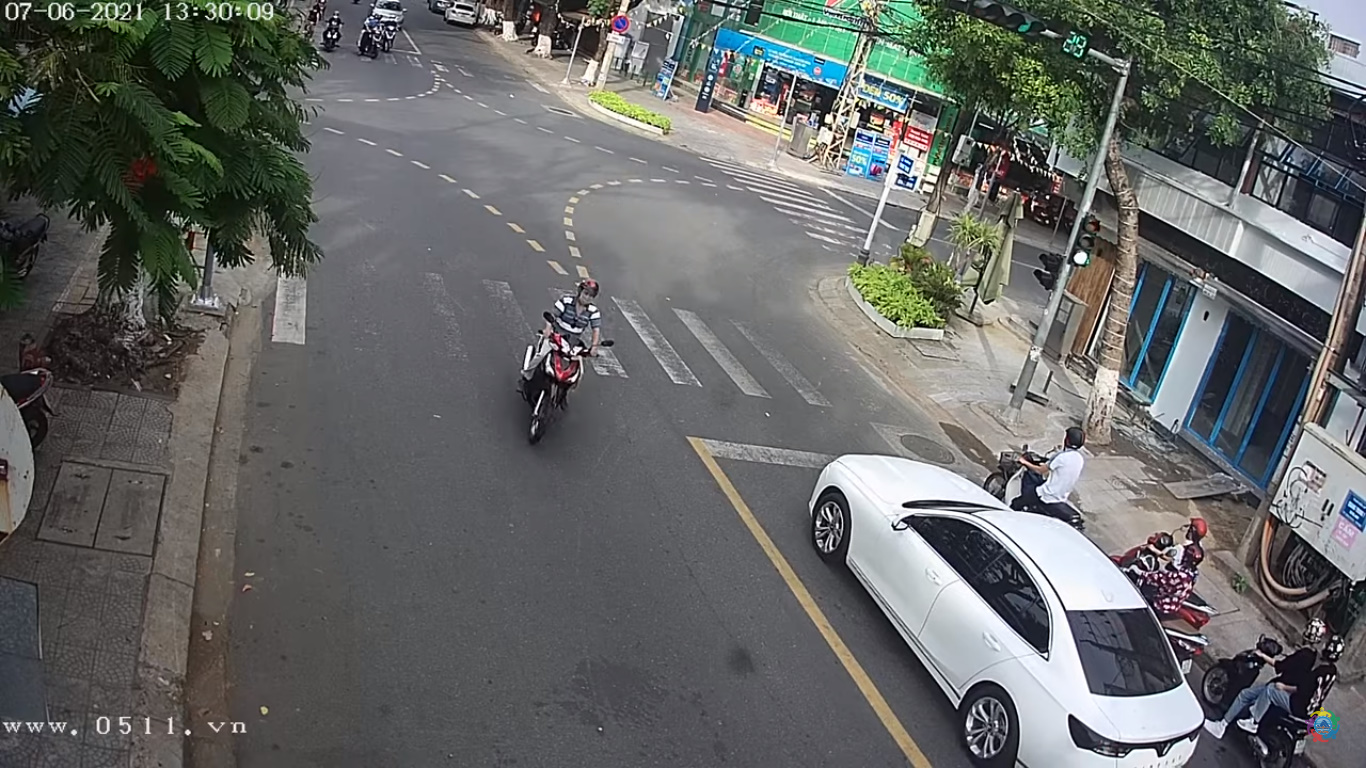motorbike: (517, 282, 599, 440)
